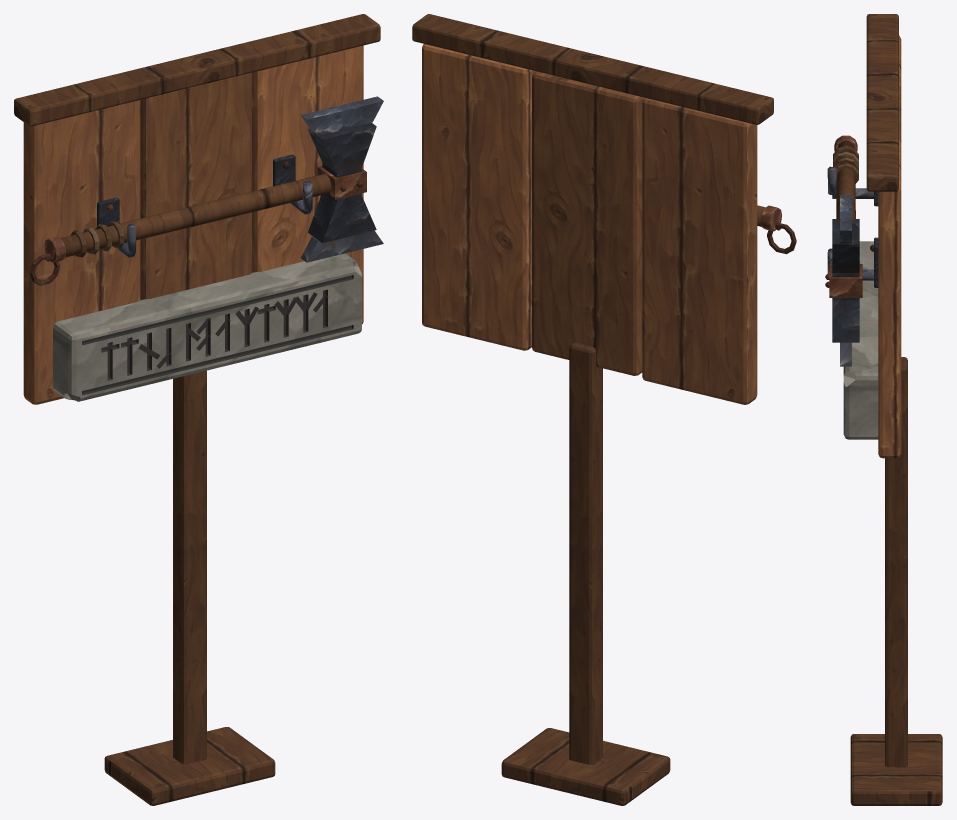
Rendered from hm_heirloom_axe.glb.
3 views of the same model, side by side, from view 1: azimuth 30°, elevation 25°; view 2: azimuth 150°, elevation 25°; view 3: azimuth 270°, elevation 25° (orthographic). The views are drawn at different scales.
Parts seen in each view (by area): view 1: model; view 2: model; view 3: model.
Part boxes in pixels (x1,y1,x2,y2): model: (14,14,383,805); model: (412,14,796,805); model: (825,14,942,805).
Bounding box in the file's own units: 0.866 × 1.64 × 0.2547.
12 materials, 11 textured.
